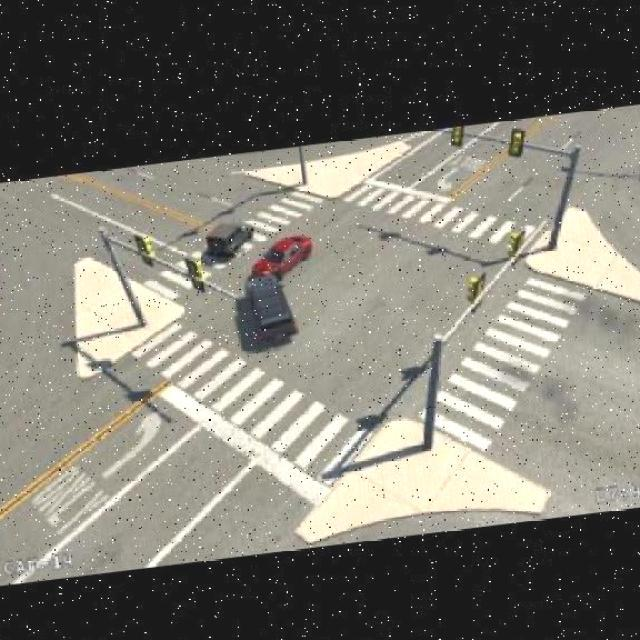accident: (237, 239, 289, 301)
